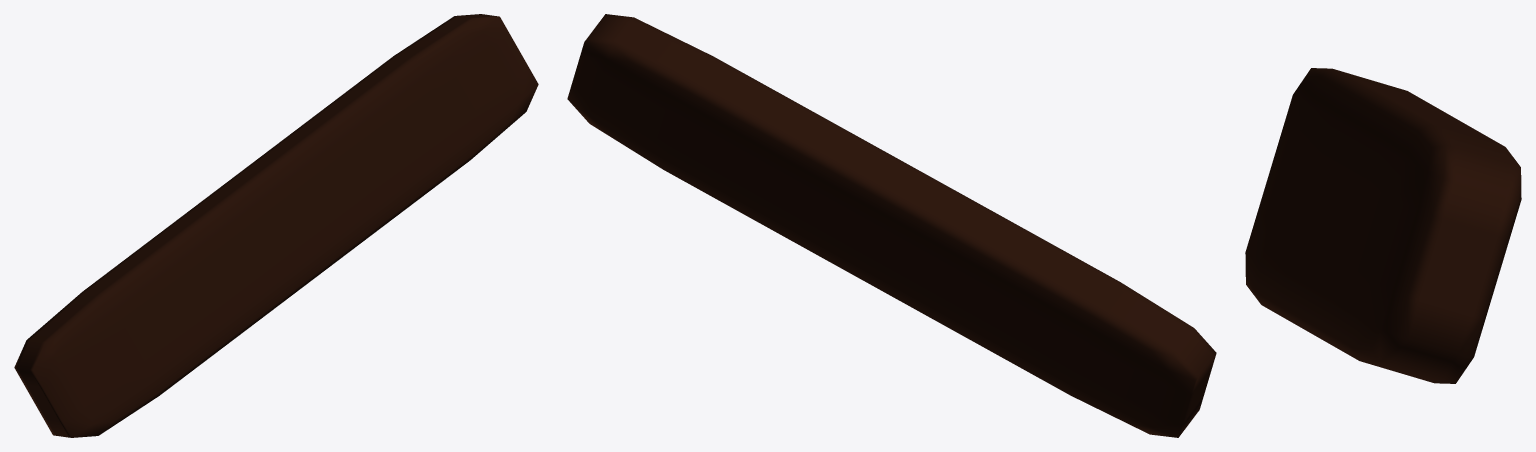
Rendered from Plank.obj.
The picture shows the model from 3 angles, left to right: view 1: azimuth 30°, elevation 25°; view 2: azimuth 150°, elevation 25°; view 3: azimuth 270°, elevation 25°; orthographic projection. The views are drawn at different scales.
Parts seen in each view (by area): view 1: WoodenPlank1 Plank1 HouseBase1; view 2: WoodenPlank1 Plank1 HouseBase1; view 3: WoodenPlank1 Plank1 HouseBase1.
Part boxes in pixels (bbox=[...]): WoodenPlank1 Plank1 HouseBase1: bbox=[14, 14, 538, 437]; WoodenPlank1 Plank1 HouseBase1: bbox=[567, 14, 1216, 437]; WoodenPlank1 Plank1 HouseBase1: bbox=[1245, 68, 1521, 383].
Bounding box in the file's own units: 8.75 × 4.54 × 1.97.
